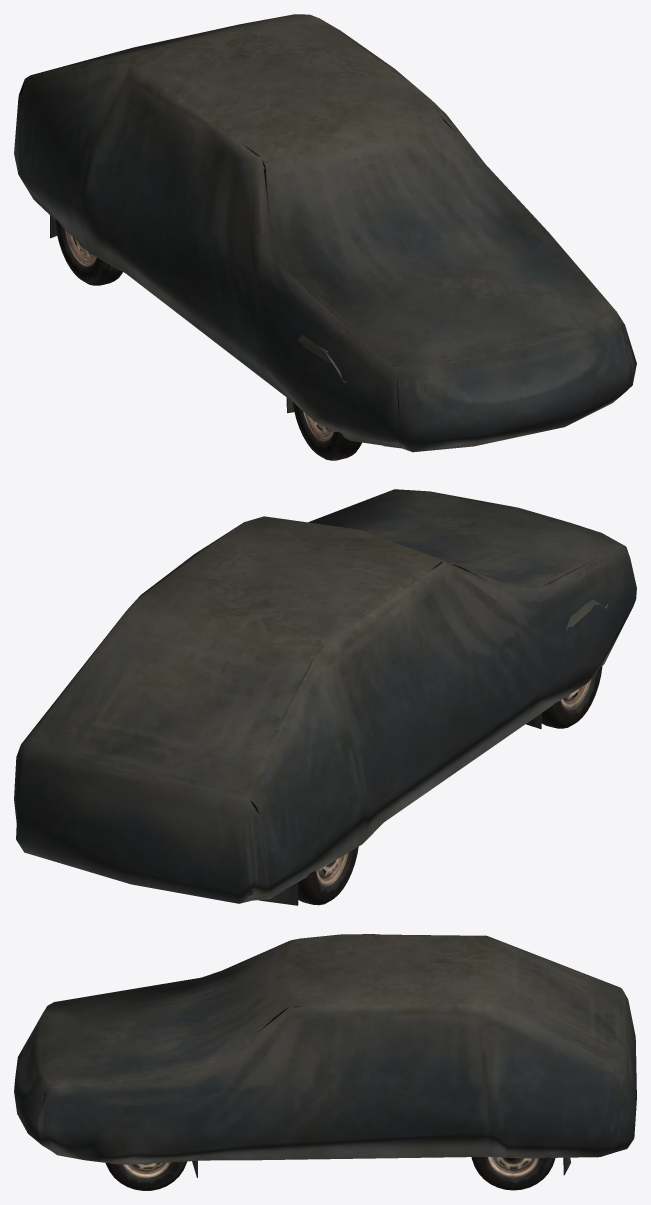
Rendered from covered_car.glb.
The picture shows the model from 3 angles, top to bottom: view 1: azimuth 30°, elevation 25°; view 2: azimuth 150°, elevation 25°; view 3: azimuth 270°, elevation 25°; orthographic projection. The views are drawn at different scales.
Parts seen in each view (by area): view 1: covered_car, covered_car_wheel_03, covered_car_wheel_02; view 2: covered_car, covered_car_wheel_03, covered_car_wheel_02; view 3: covered_car, covered_car_wheel_04, covered_car_wheel_01.
Part boxes in pixels (x1=…): covered_car: x1=14, y1=14, x2=636, y2=452; covered_car_wheel_03: x1=55, y1=219, x2=122, y2=285; covered_car_wheel_02: x1=292, y1=402, x2=361, y2=460; covered_car: x1=14, y1=489, x2=636, y2=905; covered_car_wheel_03: x1=298, y1=847, x2=358, y2=905; covered_car_wheel_02: x1=541, y1=664, x2=602, y2=728; covered_car: x1=14, y1=934, x2=636, y2=1177; covered_car_wheel_04: x1=471, y1=1156, x2=555, y2=1190; covered_car_wheel_01: x1=105, y1=1161, x2=187, y2=1190.
Bounding box in the file's own units: 1.79 × 1.41 × 4.38.
1 material, 1 textured.
